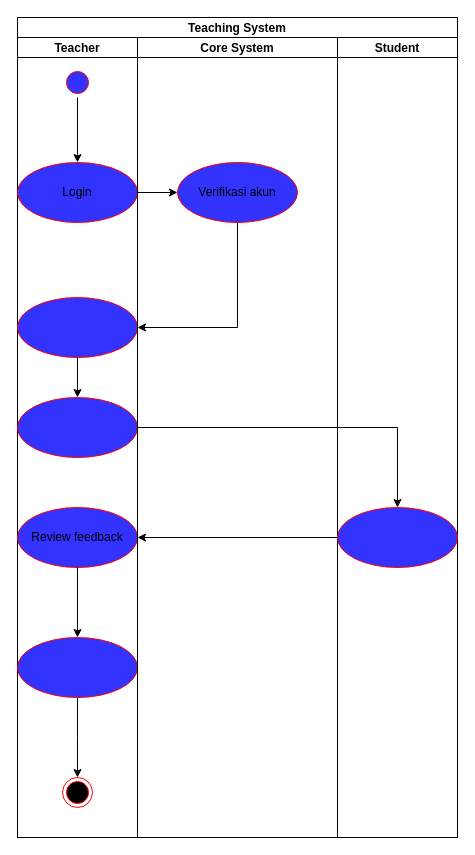
The diagram is 475 pixels wide and 855 high, and some of its shapes have lost their labels. The centre of each missing label's shape, as x and y in pixels:
Memberikan course: the point at 77,427
Memberikan feedback: the point at 397,537
Memberikan nilai: the point at 77,667
Tampilkan menu: the point at 77,327
